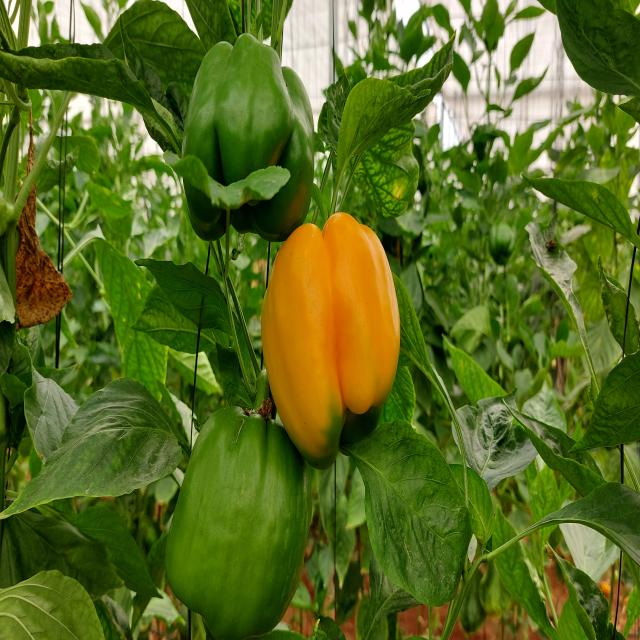Yellow-Ready-to-Harvest: (260, 218, 403, 454)
